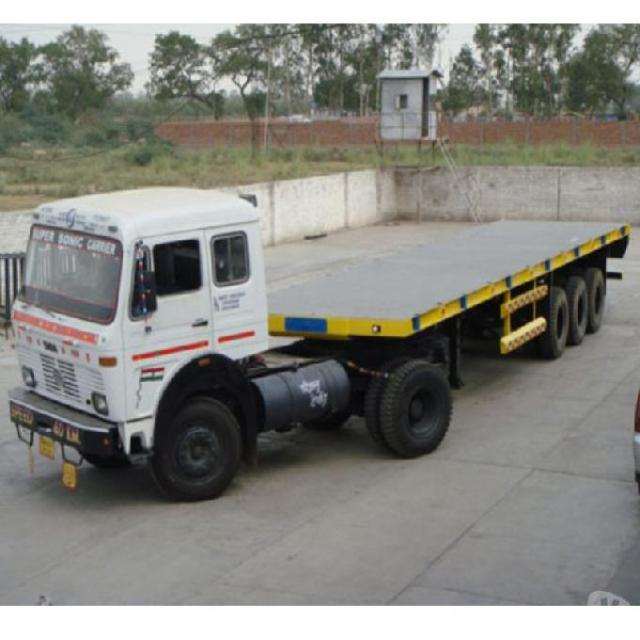truck: (10, 187, 630, 499)
